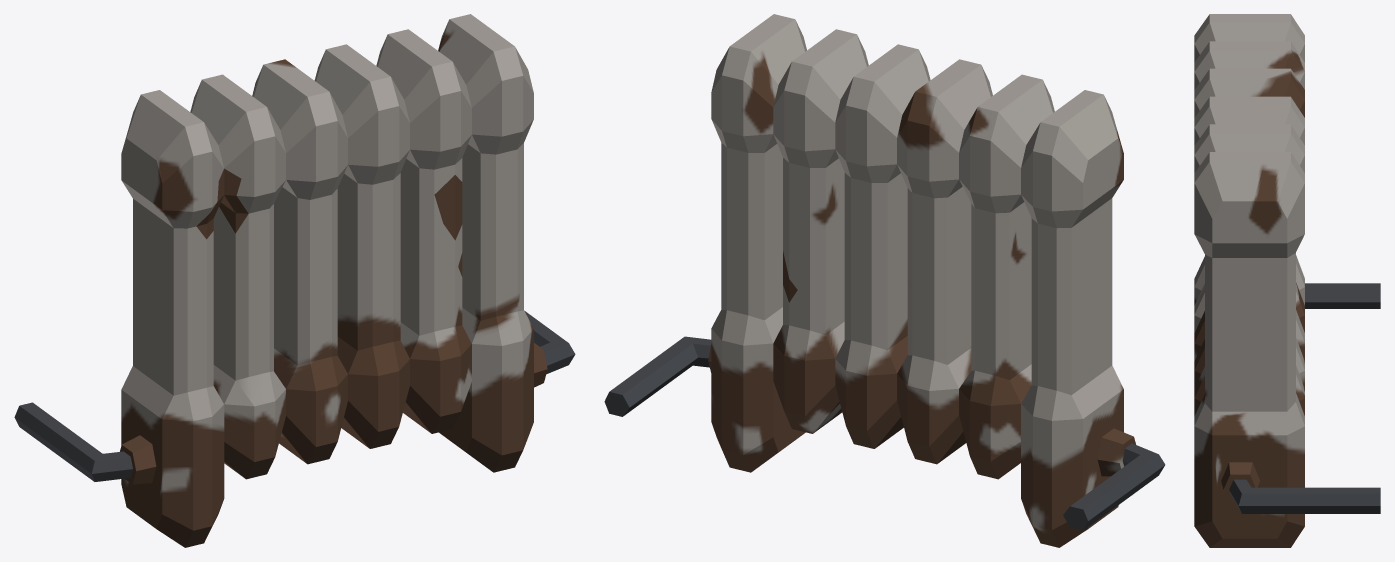
File: SM_Prop_Heater_01.fbx
3 views of the same model, side by side, from view 1: azimuth 30°, elevation 25°; view 2: azimuth 150°, elevation 25°; view 3: azimuth 270°, elevation 25° (orthographic). The views are drawn at different scales.
Parts seen in each view (by area): view 1: SM_Prop_Heater_01; view 2: SM_Prop_Heater_01; view 3: SM_Prop_Heater_01.
Boxes of the visible parts, x1,y1,x2,y2 form: SM_Prop_Heater_01: (14,14,575,547); SM_Prop_Heater_01: (604,14,1165,547); SM_Prop_Heater_01: (1194,14,1380,547).
Bounding box in the file's own units: 96.46 × 80.24 × 35.02.
